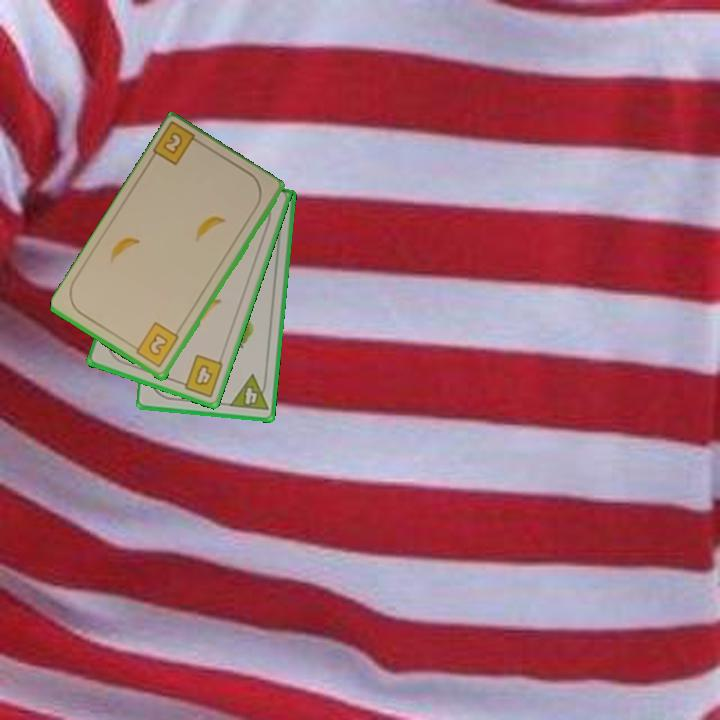2b: (128, 319, 182, 371), (150, 120, 207, 169)
4b: (174, 351, 226, 400)
4p: (226, 371, 271, 414)
